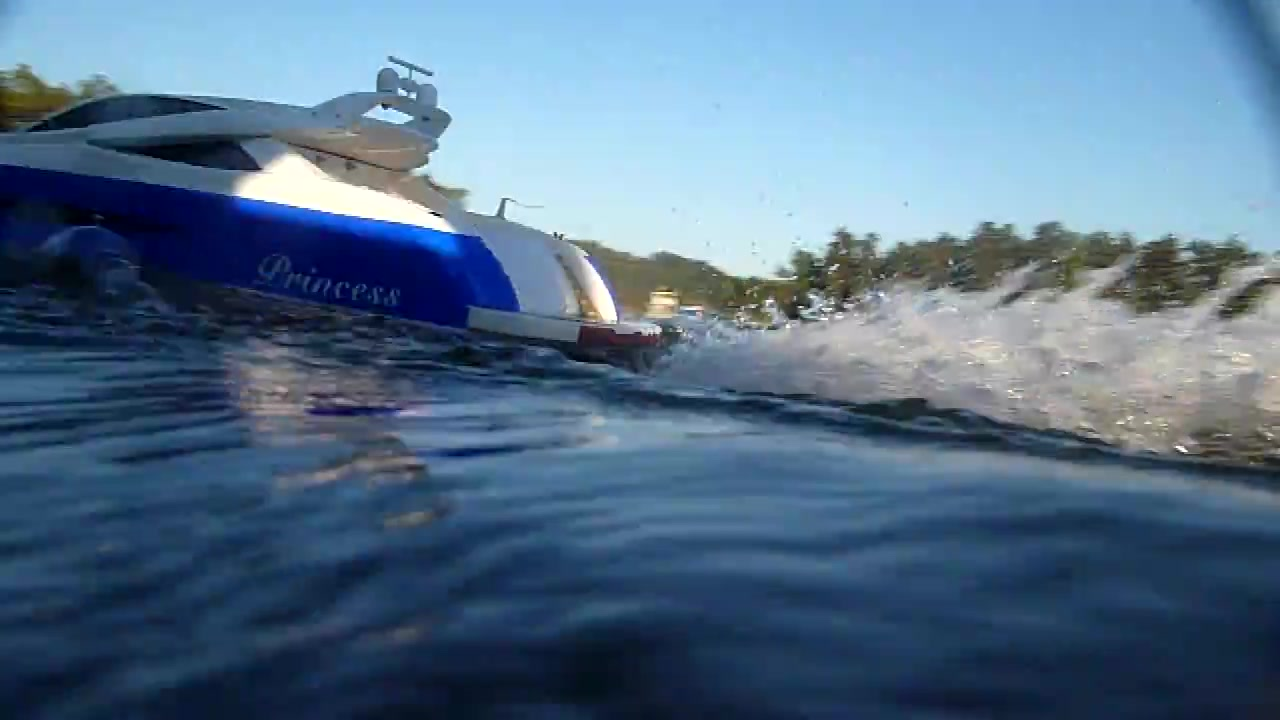boat: (1, 54, 675, 358)
